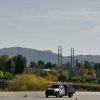Car: (43, 78, 79, 100)
